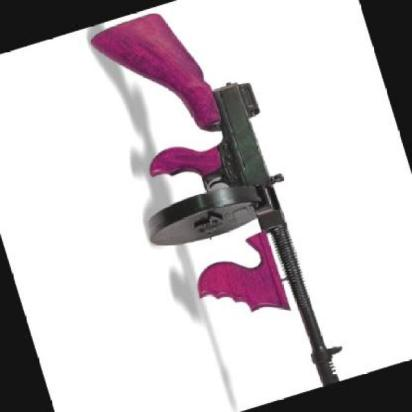Gun: (64, 0, 368, 412)
